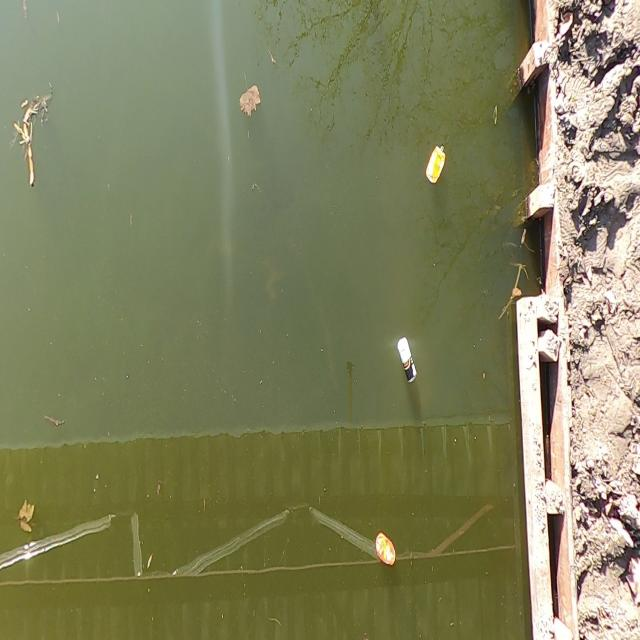Non plastique: (423, 139, 452, 187), (398, 337, 423, 392), (374, 528, 401, 573)
